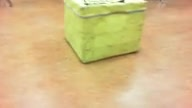cube: (64, 1, 147, 64)
